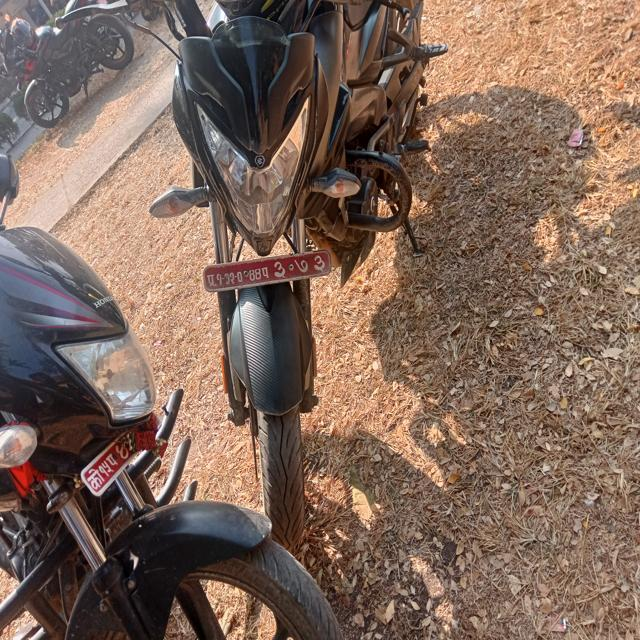license_plate: (185, 0, 460, 553)
